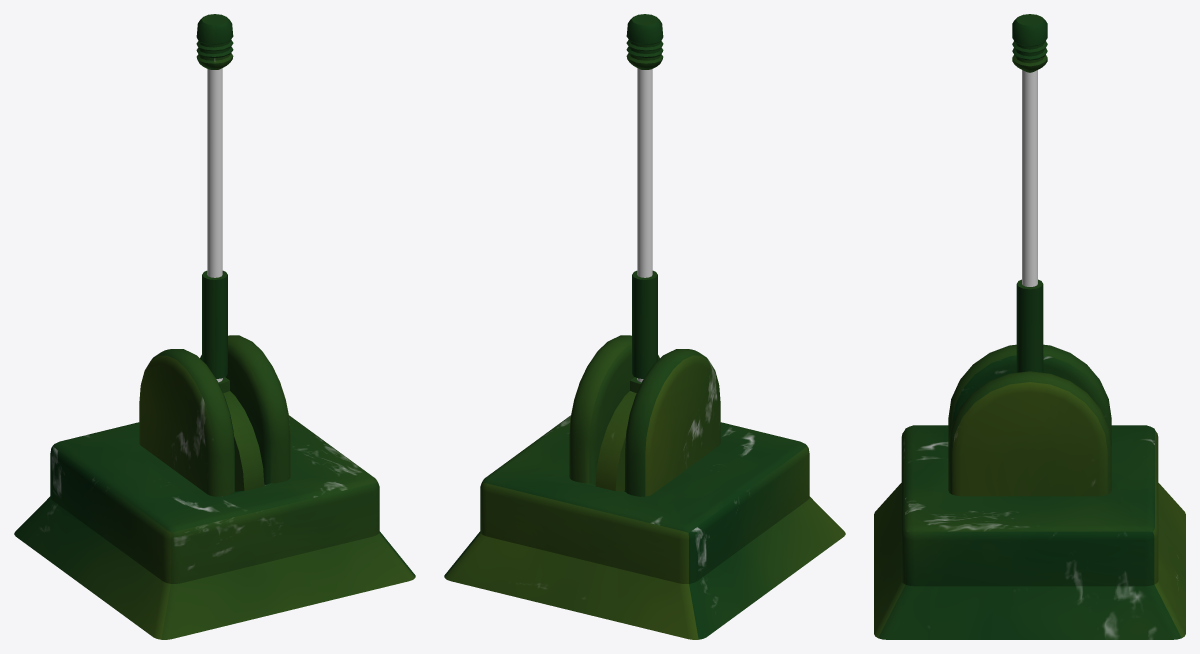
Rendered from palanca.fbx.
3 renders of one model, left to right at view 1: azimuth 30°, elevation 25°; view 2: azimuth 150°, elevation 25°; view 3: azimuth 270°, elevation 25°, orthographic. The views are drawn at different scales.
Parts seen in each view (by area): view 1: PalancaBase, palanca; view 2: PalancaBase, palanca; view 3: PalancaBase, palanca.
Part boxes in pixels (box(x1,y1,x2,y2)): PalancaBase: box(14, 335, 415, 639); palanca: box(196, 14, 264, 491); PalancaBase: box(444, 335, 845, 639); palanca: box(595, 14, 663, 491); PalancaBase: box(874, 344, 1185, 639); palanca: box(1012, 14, 1047, 372).
Size of the model in its own units: 0.6005 by 1.18 by 0.6005.
Materials: 2 (1 with a texture image).
